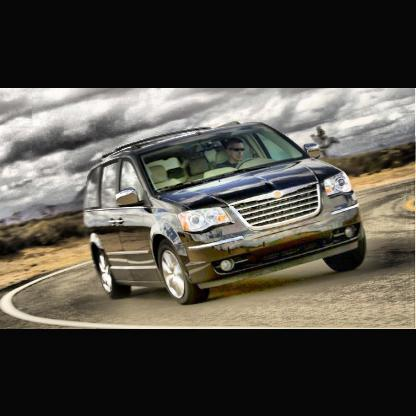Chrysler Town and Country Minivan 2012: (86, 120, 369, 308)
